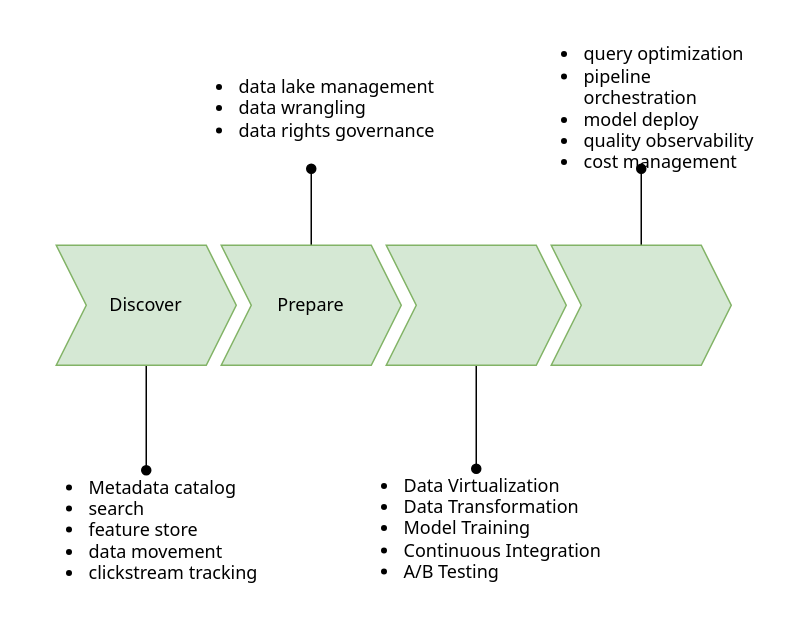
This 786x627 diagram has some shape labels left out. The shapes that lost their labels are listed below. From the top down, each one's centre as x and y in pixels, then its label:
pixel 475 304: Build
pixel 640 304: Operationalize
